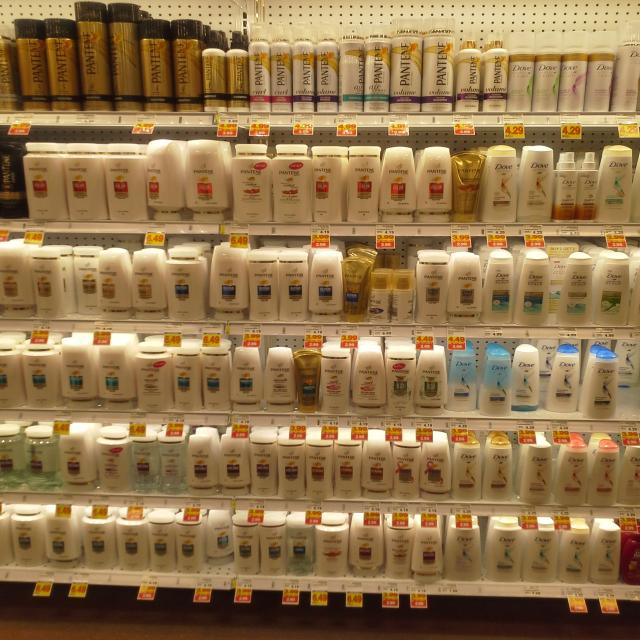unorganised: (67, 249, 104, 317), (549, 343, 580, 414), (449, 340, 477, 412), (512, 342, 540, 412), (205, 509, 234, 563)
